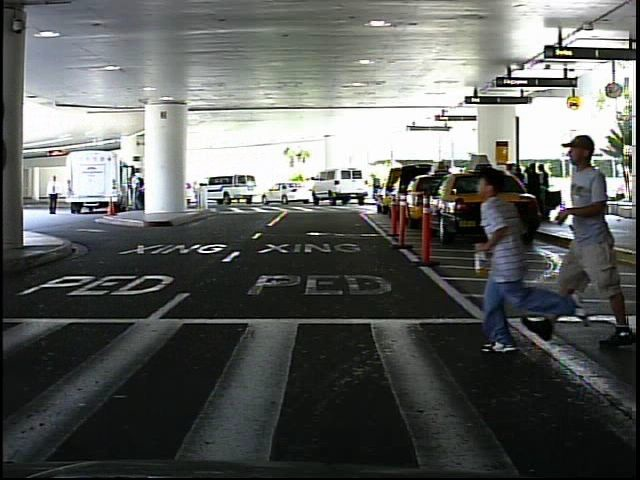person: (479, 154, 574, 357), (588, 172, 607, 218), (47, 173, 64, 217), (370, 171, 385, 203)
